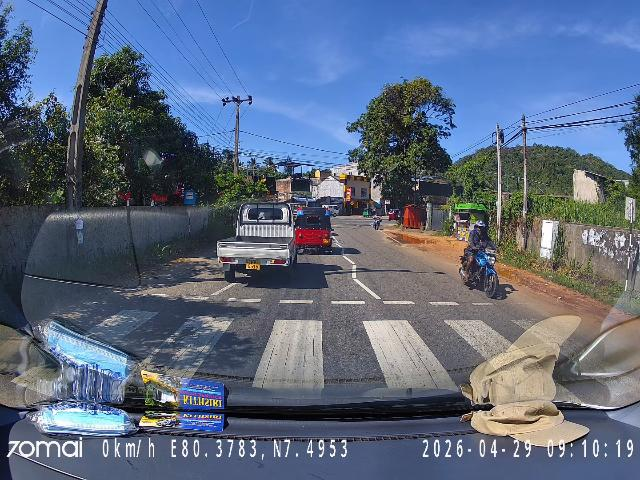number plate: (486, 248, 499, 255)
